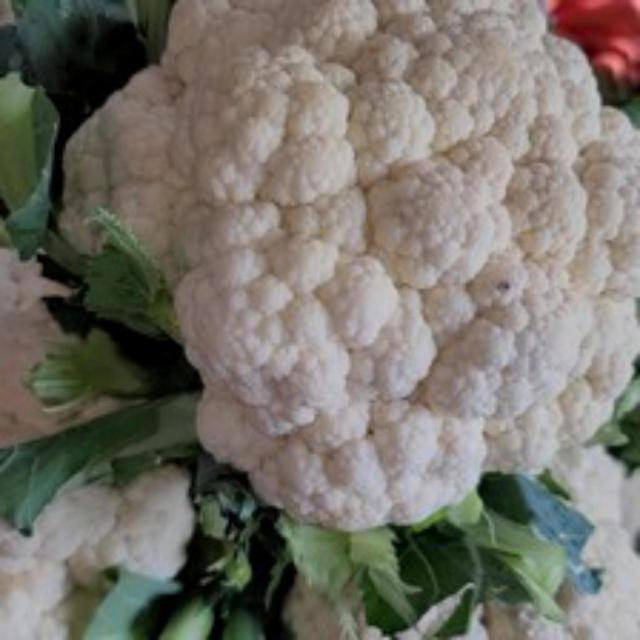cauliflower: (51, 0, 637, 542)
